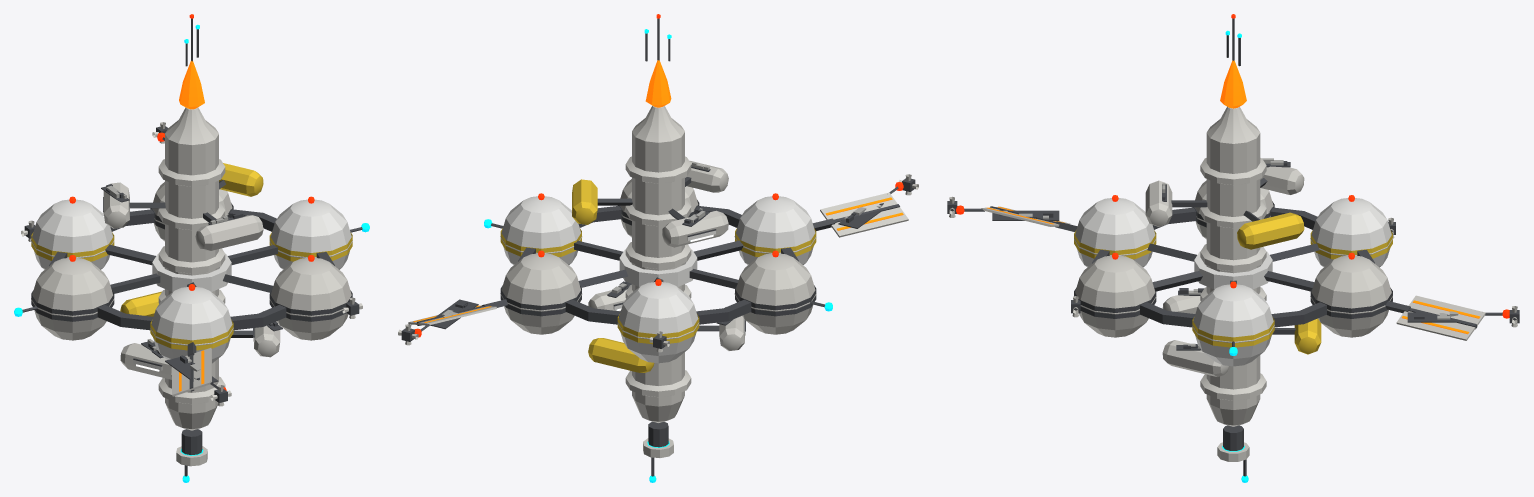
Rendered from fuel_refinery.glb.
3 renders of one model, left to right at view 1: azimuth 30°, elevation 25°; view 2: azimuth 150°, elevation 25°; view 3: azimuth 270°, elevation 25°, orthographic.
Visible parts, largest first — view 1: fuel_refinery; view 2: fuel_refinery; view 3: fuel_refinery.
Part boxes in pixels (bbox=[...]): fuel_refinery: bbox=[14, 14, 369, 482]; fuel_refinery: bbox=[398, 14, 918, 482]; fuel_refinery: bbox=[947, 14, 1519, 482].
Size of the model in its own units: 1.29 by 1.63 by 1.81.
